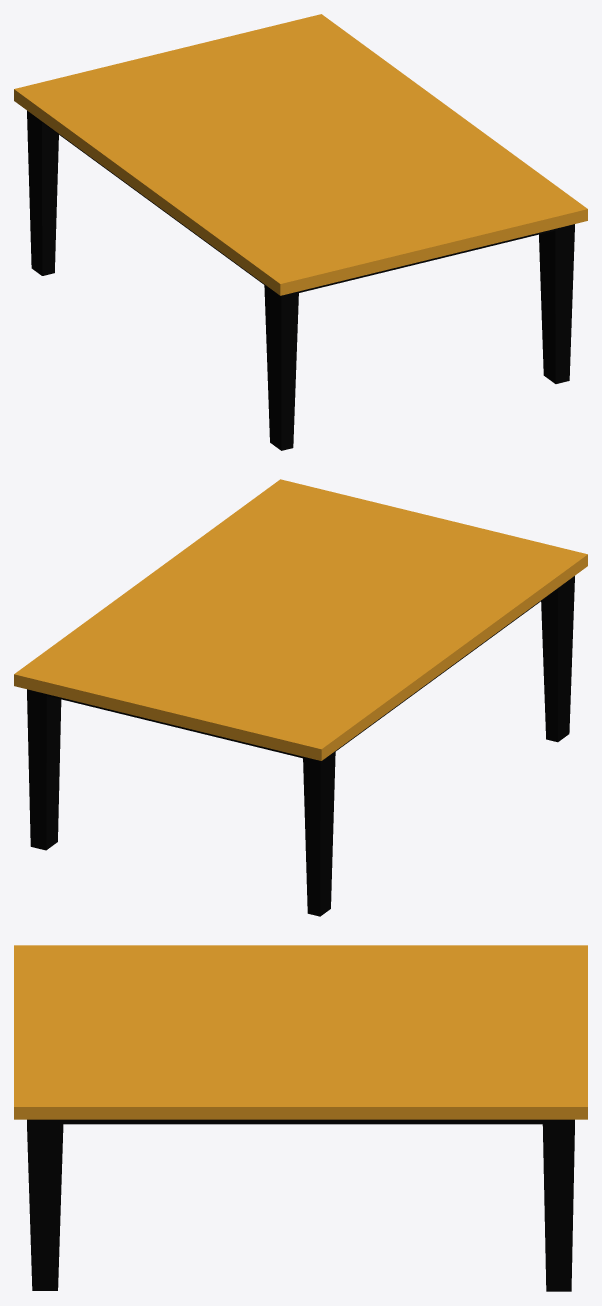
Rendered from Table_ready.fbx.
3 views of the same model, one above another, from view 1: azimuth 30°, elevation 25°; view 2: azimuth 150°, elevation 25°; view 3: azimuth 270°, elevation 25° (orthographic). The views are drawn at different scales.
Visible parts, largest first — view 1: Cube; view 2: Cube; view 3: Cube.
Part boxes in pixels (bbox=[...]): Cube: bbox=[14, 14, 587, 450]; Cube: bbox=[14, 479, 587, 916]; Cube: bbox=[14, 945, 587, 1291].
Size of the model in its own units: 709 by 387 by 1063.
